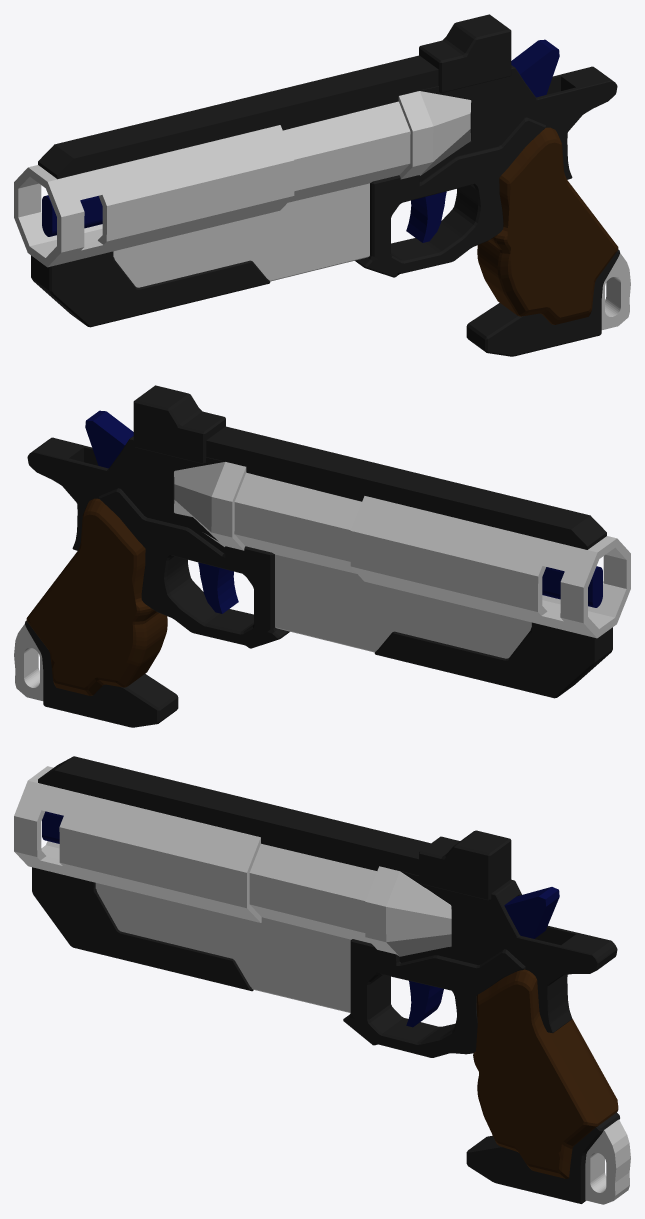
Rendered from Starter Pistol.fbx.
3 views of the same model, one above another, from view 1: azimuth 30°, elevation 25°; view 2: azimuth 150°, elevation 25°; view 3: azimuth 330°, elevation 25° (orthographic).
Visible parts, largest first — view 1: Cylinder, Cube.003, Cube.008, Cube.001, Cube.002, Cube, Cube.006, Cube.007, Cube.004, Cube.010, Cube.005, Cube.009 (+1 smaller); view 2: Cylinder, Cube.003, Cube.008, Cube.001, Cube.002, Cube, Cube.006, Cube.007, Cube.004, Cube.010, Cube.005, Cube.009 (+1 smaller); view 3: Cylinder, Cube.003, Cube.008, Cube.001, Cube.002, Cube.006, Cube, Cube.007, Cube.004, Cube.005, Cube.010, Cube.009.
Part boxes in pixels (x1,y1,x2,y2): Cylinder: (14,91,471,267); Cube.003: (477,127,618,324); Cube.008: (38,55,444,179); Cube.001: (113,183,369,287); Cube.002: (355,117,545,277); Cube: (31,251,270,327); Cube.006: (420,65,617,181); Cube.007: (419,14,511,93); Cube.004: (466,249,619,356); Cube.010: (511,39,559,97); Cube.005: (601,253,630,329); Cube.009: (406,191,446,242); Cylinder: (174,462,630,638); Cube.003: (26,498,167,695); Cube.008: (202,426,606,549); Cube.001: (275,554,531,658); Cube.002: (99,488,289,648); Cube: (374,622,612,698); Cube.006: (27,436,224,553); Cube.007: (133,385,225,464); Cube.004: (25,620,178,727); Cube.010: (85,410,133,468); Cube.005: (14,624,43,700); Cube.009: (198,562,238,613); Cylinder: (14,766,451,956); Cube.003: (473,969,618,1178); Cube.008: (38,756,430,887); Cube.001: (95,883,350,1012); Cube.002: (343,939,525,1057); Cube.006: (399,871,617,1033); Cube: (32,867,253,991); Cube.007: (419,830,511,900); Cube.004: (466,1112,619,1203); Cube.005: (585,1119,630,1204); Cube.010: (504,887,559,938); Cube.009: (406,981,443,1027).
Bounding box in the file's own units: 452 × 243 × 63.33.
